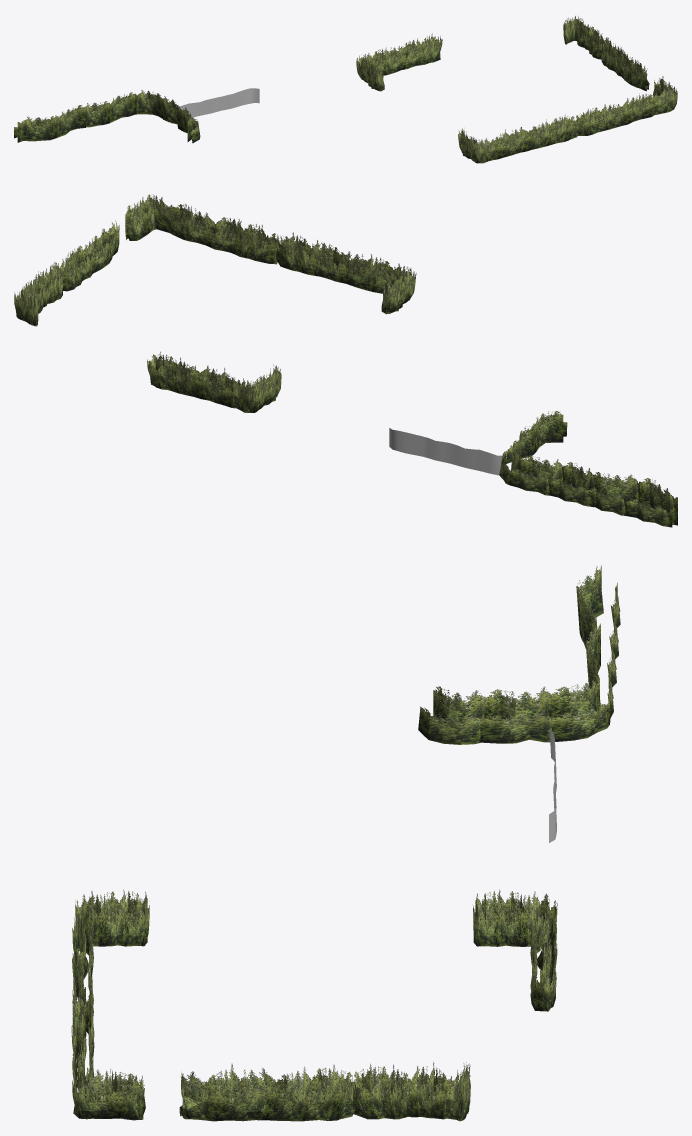
The model's file is hecken.fbx.
3 views of the same model, one above another, from view 1: azimuth 30°, elevation 25°; view 2: azimuth 150°, elevation 25°; view 3: azimuth 270°, elevation 25° (orthographic). The views are drawn at different scales.
Visible parts, largest first — view 1: Mesh (5), Mesh (2), Mesh, Mesh (4), Mesh (3); view 2: Mesh (5), Mesh (2), Mesh, Mesh (4), Mesh (3); view 3: Mesh (4), Mesh (2), Mesh (5), Mesh.
Part boxes in pixels (x1=…): Mesh (5): x1=458, y1=76, x2=677, y2=163; Mesh (2): x1=14, y1=90, x2=200, y2=143; Mesh: x1=356, y1=33, x2=442, y2=91; Mesh (4): x1=563, y1=16, x2=649, y2=91; Mesh (3): x1=171, y1=88, x2=259, y2=123; Mesh (5): x1=125, y1=194, x2=416, y2=314; Mesh (2): x1=499, y1=410, x2=677, y2=527; Mesh: x1=147, y1=351, x2=281, y2=412; Mesh (4): x1=14, y1=221, x2=119, y2=326; Mesh (3): x1=389, y1=428, x2=505, y2=475; Mesh (4): x1=179, y1=1061, x2=470, y2=1121; Mesh (2): x1=418, y1=565, x2=620, y2=744; Mesh (5): x1=71, y1=889, x2=149, y2=1120; Mesh: x1=473, y1=889, x2=557, y2=1011.
Bounding box in the file's own units: 8382 × 520 × 3764.
